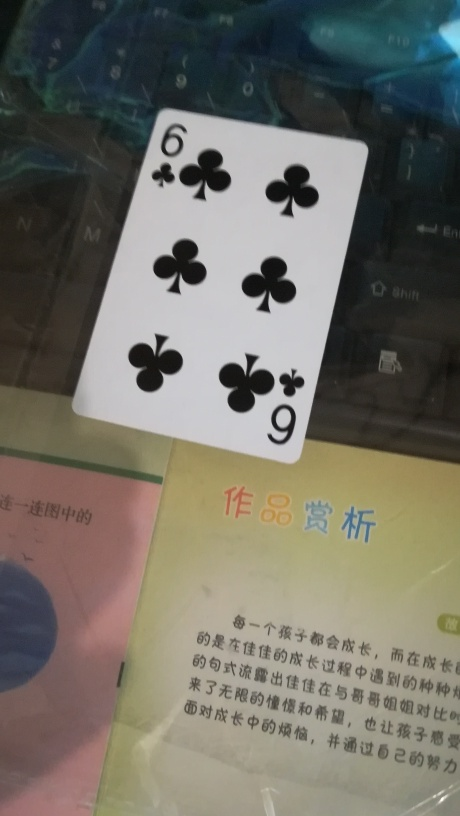mh 6: (69, 103, 368, 469)
